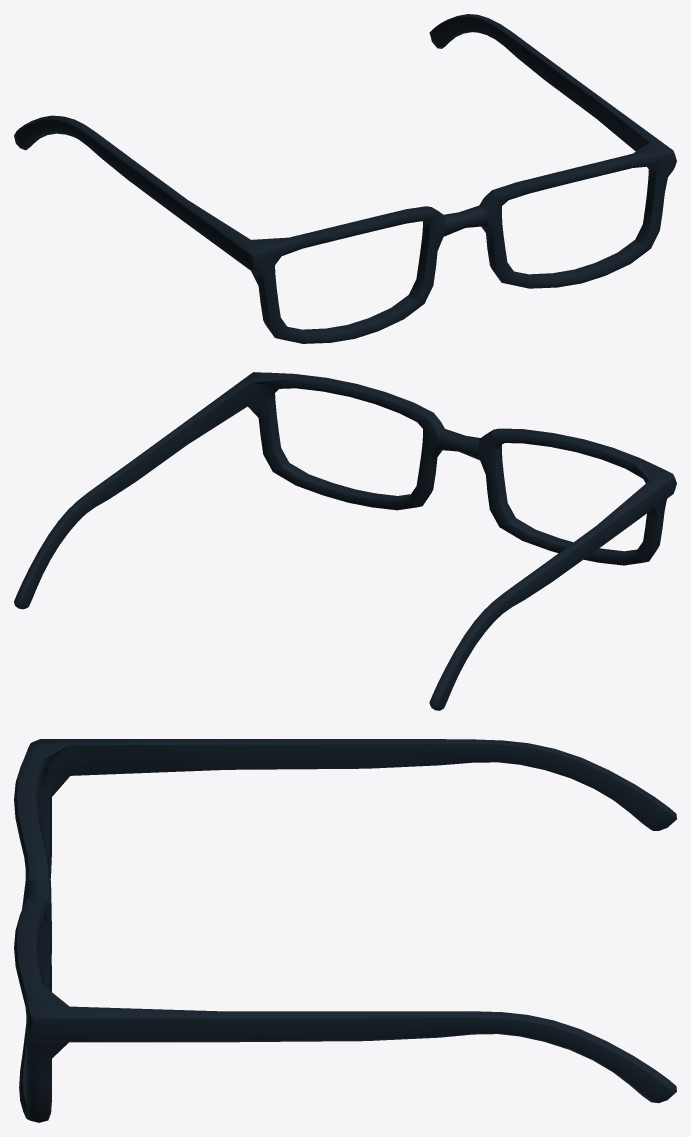
File: glasses_formal_size_fixed.glb
The picture shows the model from 3 angles, top to bottom: view 1: azimuth 30°, elevation 25°; view 2: azimuth 150°, elevation 25°; view 3: azimuth 270°, elevation 25°; orthographic projection. The views are drawn at different scales.
Visible parts, largest first — view 1: Glasses_01_Plane.001; view 2: Glasses_01_Plane.001; view 3: Glasses_01_Plane.001.
Part boxes in pixels (x1,y1,x2,y2): Glasses_01_Plane.001: (14, 14, 676, 343); Glasses_01_Plane.001: (14, 372, 676, 710); Glasses_01_Plane.001: (14, 739, 676, 1122).
Bounding box in the file's own units: 41.24 × 10.63 × 41.42.
